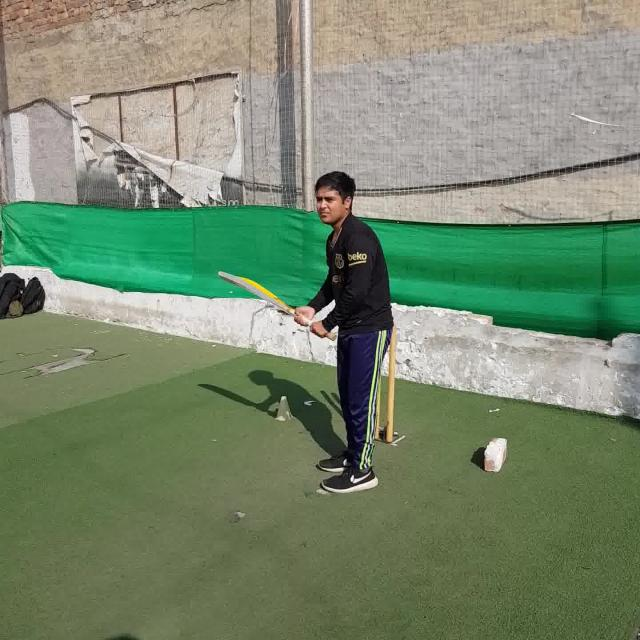bat: (217, 271, 336, 339)
